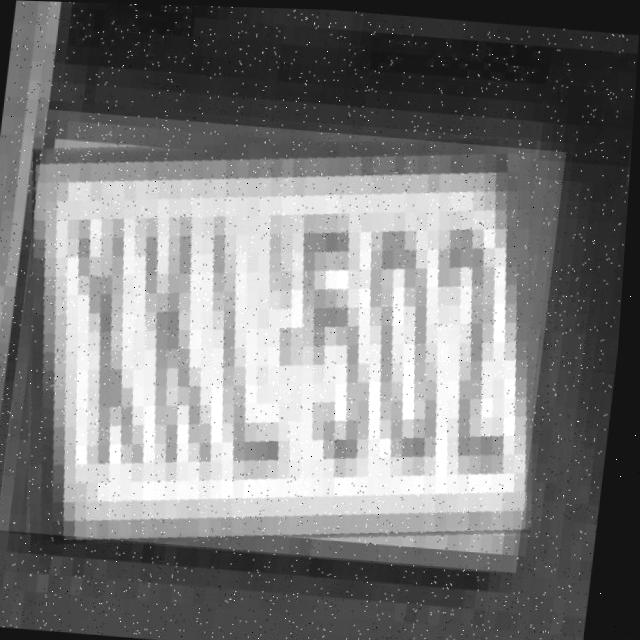LicensePlate: (3, 109, 570, 569)
